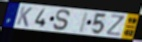4: (34, 8, 47, 29)
5: (90, 13, 109, 35)
I: (78, 11, 91, 34)
K: (15, 6, 34, 28)
S: (52, 9, 72, 31)
Z: (105, 14, 126, 37)
